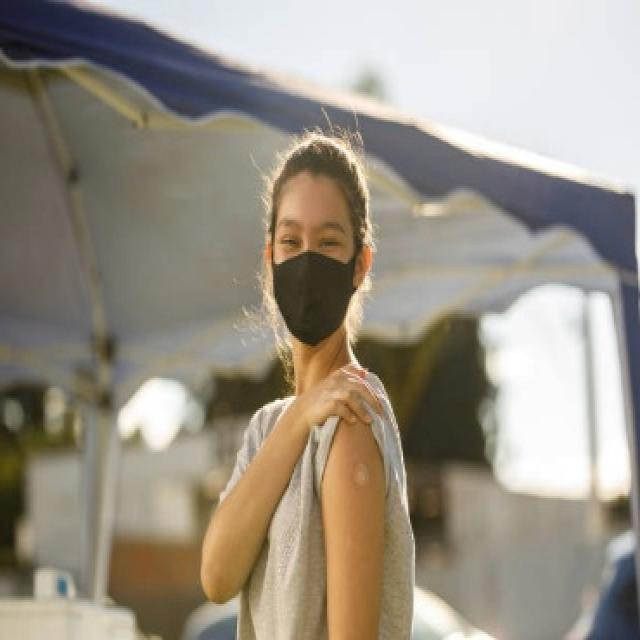adult: (204, 123, 408, 640)
